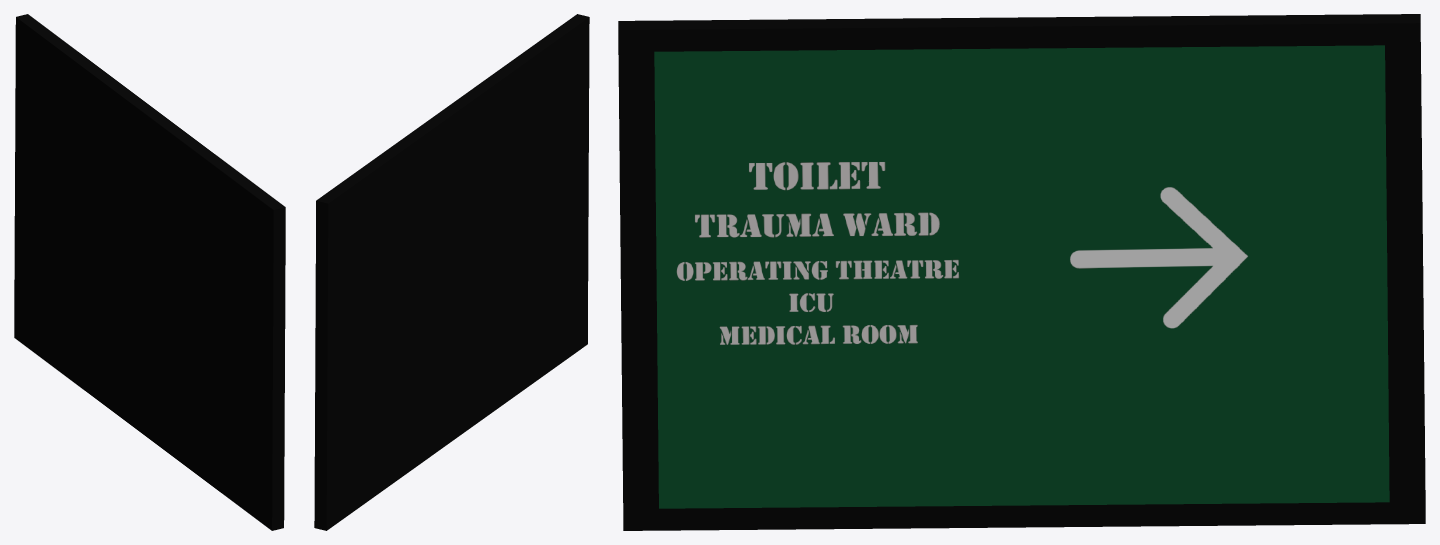
The model's file is signboard 2 .fbx.
3 renders of one model, left to right at view 1: azimuth 30°, elevation 25°; view 2: azimuth 150°, elevation 25°; view 3: azimuth 270°, elevation 25°, orthographic. The views are drawn at different scales.
Parts seen in each view (by area): view 1: Cube.001; view 2: Cube.001; view 3: Cube.001.
Boxes of the visible parts, bbox=[...] form: Cube.001: bbox=[14, 14, 285, 530]; Cube.001: bbox=[314, 14, 589, 530]; Cube.001: bbox=[618, 14, 1425, 530].
Size of the model in its own units: 17.62 by 457 by 658.
Materials: 2 (1 with a texture image).
